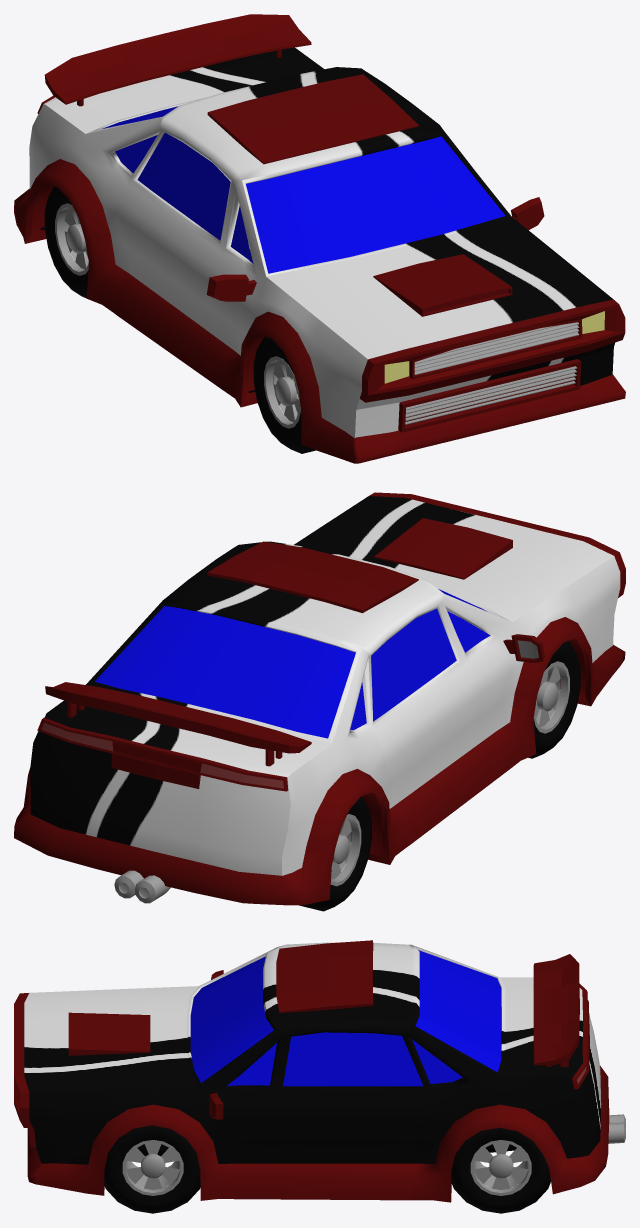
Rendered from Muscle Evolution3 DarkRed WaveBlackWhite Blue LightGrey.glb.
The picture shows the model from 3 angles, top to bottom: view 1: azimuth 30°, elevation 25°; view 2: azimuth 150°, elevation 25°; view 3: azimuth 270°, elevation 25°; orthographic projection. The views are drawn at different scales.
Visible parts, largest first — view 1: evo3_body1_f1_dupl, evo3_sill3_f1_dupl, evo3_frontGlass_f1_dupl, evo3_rooftop3_f1_dupl, evo3_spoiler3_f1_dupl, evo3_frontBlockGrid3_f1_dupl, evo3_glasseBigR_f1_dupl, evo3_airtrap_front4_f1_dupl, evo3_blockgrid3_f1_dupl, evo3_gridfrontbot3_f1_dupl, evo3_gridfrontup3_f1_dupl, evo3_tire_rf1_f1_dupl (+6 smaller); view 2: evo3_body1_f1_dupl, evo3_sill3_f1_dupl, evo3_BackGlassGlass_f1_dupl, evo3_rooftop3_f1_dupl, evo3_spoiler3_f1_dupl, evo3_glasseBigR_f1_dupl, evo3_airtrap_front4_f1_dupl, evo3_blockbacklight_f1_dupl, evo3_rim_A_rf_f1_dupl, evo3_tire_rf1_f1_dupl, evo3_tire_rf_f1_dupl, evo3_frontBlockGrid3_f1_dupl (+6 smaller); view 3: evo3_body1_f1_dupl, evo3_sill3_f1_dupl, evo3_BackGlassGlass_f1_dupl, evo3_glasseBigL_f1_dupl, evo3_frontGlass_f1_dupl, evo3_rooftop3_f1_dupl, evo3_spoiler3_f1_dupl, evo3_tire_lf_f1_dupl, evo3_tire_lb_f1_dupl, evo3_airtrap_front4_f1_dupl, evo3_rim_A_lf_f1_dupl, evo3_rim_A_lb_f1_dupl (+5 smaller).
Boxes of the visible parts, <box> form: evo3_body1_f1_dupl: <box>29,47,614,438</box>; evo3_sill3_f1_dupl: <box>14,159,625,463</box>; evo3_frontGlass_f1_dupl: <box>246,136,505,273</box>; evo3_rooftop3_f1_dupl: <box>207,74,419,164</box>; evo3_spoiler3_f1_dupl: <box>44,14,311,106</box>; evo3_frontBlockGrid3_f1_dupl: <box>360,299,625,402</box>; evo3_glasseBigR_f1_dupl: <box>137,133,230,240</box>; evo3_airtrap_front4_f1_dupl: <box>373,254,512,316</box>; evo3_blockgrid3_f1_dupl: <box>398,359,581,432</box>; evo3_gridfrontbot3_f1_dupl: <box>405,366,577,424</box>; evo3_gridfrontup3_f1_dupl: <box>414,322,579,374</box>; evo3_tire_rf1_f1_dupl: <box>253,336,315,453</box>; evo3_body1_f1_dupl: <box>30,496,620,875</box>; evo3_sill3_f1_dupl: <box>14,617,625,905</box>; evo3_BackGlassGlass_f1_dupl: <box>95,606,355,738</box>; evo3_rooftop3_f1_dupl: <box>207,541,418,613</box>; evo3_spoiler3_f1_dupl: <box>45,682,311,766</box>; evo3_glasseBigR_f1_dupl: <box>371,608,456,721</box>; evo3_airtrap_front4_f1_dupl: <box>374,518,512,579</box>; evo3_blockbacklight_f1_dupl: <box>37,718,288,791</box>; evo3_rim_A_rf_f1_dupl: <box>533,661,569,733</box>; evo3_tire_rf1_f1_dupl: <box>528,641,580,758</box>; evo3_tire_rf_f1_dupl: <box>299,796,371,911</box>; evo3_frontBlockGrid3_f1_dupl: <box>369,492,625,597</box>; evo3_body1_f1_dupl: <box>24,942,601,1164</box>; evo3_sill3_f1_dupl: <box>27,1065,609,1202</box>; evo3_BackGlassGlass_f1_dupl: <box>415,950,501,1072</box>; evo3_glasseBigL_f1_dupl: <box>283,1032,423,1086</box>; evo3_frontGlass_f1_dupl: <box>190,956,273,1083</box>; evo3_rooftop3_f1_dupl: <box>276,940,373,1012</box>; evo3_spoiler3_f1_dupl: <box>533,954,579,1066</box>; evo3_tire_lf_f1_dupl: <box>104,1125,200,1213</box>; evo3_tire_lb_f1_dupl: <box>451,1127,550,1213</box>; evo3_airtrap_front4_f1_dupl: <box>68,1012,150,1055</box>; evo3_rim_A_lf_f1_dupl: <box>122,1140,183,1195</box>; evo3_rim_A_lb_f1_dupl: <box>470,1140,531,1195</box>.
Bounding box in the file's own units: 177 × 116 × 335.
Materials: 8 (1 with a texture image).
